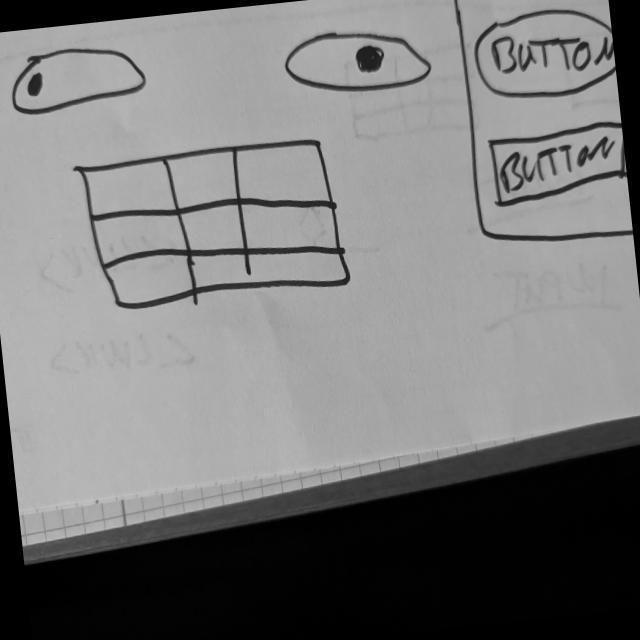button: (471, 1, 619, 108), (485, 117, 630, 213)
container: (451, 1, 634, 255)
table: (73, 134, 354, 318)
toggle: (281, 21, 435, 105), (6, 37, 152, 120)
